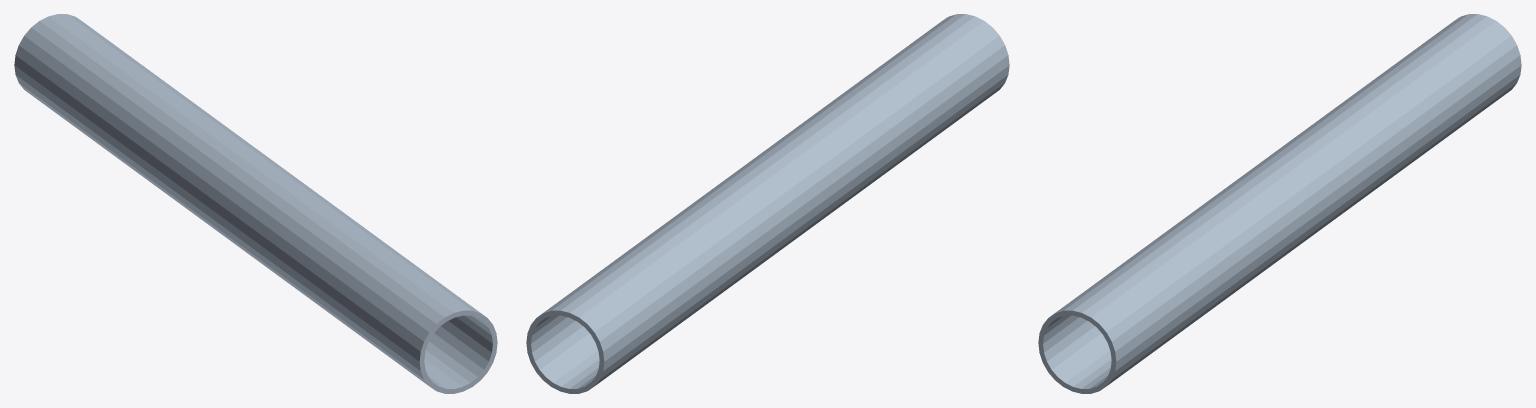
Rendered from synthetic-profile-tube-folded.glb.
3 views of the same model, side by side, from view 1: azimuth 30°, elevation 25°; view 2: azimuth 150°, elevation 25°; view 3: azimuth 330°, elevation 25° (orthographic).
Visible parts, largest first — view 1: world; view 2: world; view 3: world.
Boxes of the visible parts, x1=… form: world: x1=14, y1=14, x2=497, y2=393; world: x1=526, y1=14, x2=1009, y2=393; world: x1=1038, y1=14, x2=1521, y2=393.
Bounding box in the file's own units: 100 × 99.27 × 900.
